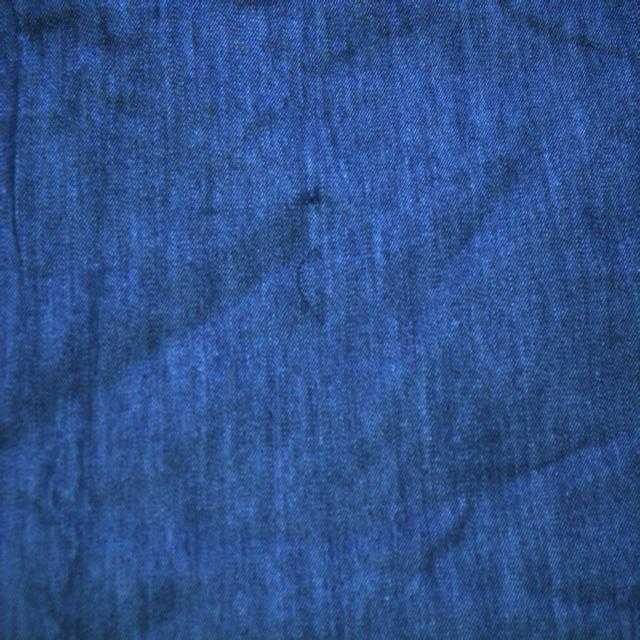defect: (289, 230, 343, 329)
